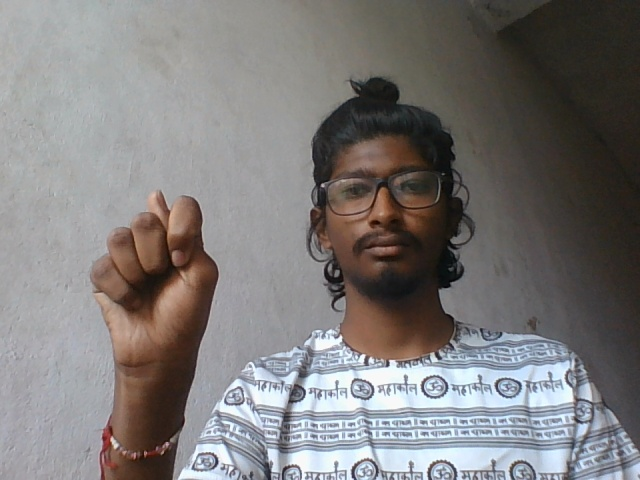Food: (79, 185, 226, 374)
